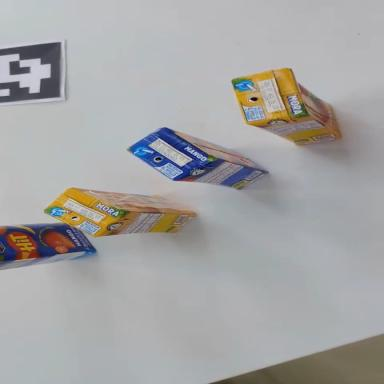HIT-MANGO: (123, 118, 270, 210), (0, 213, 97, 270)
HIT-MORA: (230, 55, 341, 164), (43, 185, 198, 248)
cara_F: (276, 69, 353, 141), (161, 127, 270, 176), (0, 216, 95, 262), (70, 187, 197, 219)
